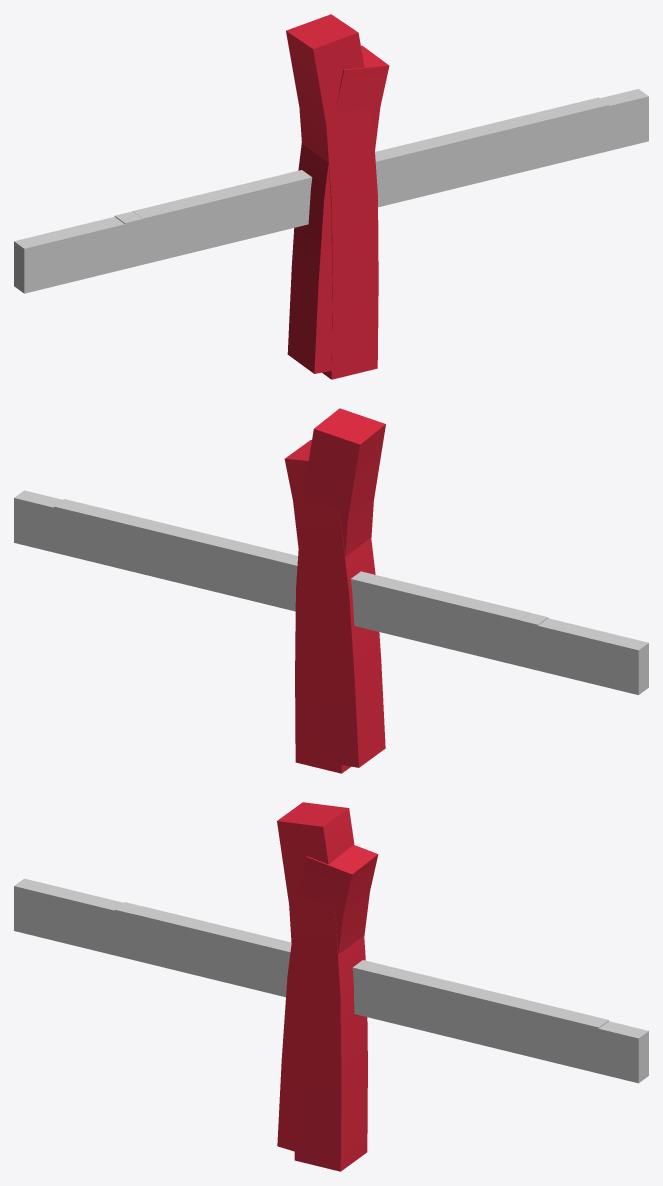
The model's file is Fence_Broken_Parts.fbx.
3 views of the same model, one above another, from view 1: azimuth 30°, elevation 25°; view 2: azimuth 150°, elevation 25°; view 3: azimuth 330°, elevation 25° (orthographic).
Parts seen in each view (by area): view 1: Fence01.001, Plane.002, Plane.001, Fence01.002, Plane.004, Plane, Plane.003; view 2: Fence01.002, Plane.002, Fence01.001, Plane.001, Plane.003, Plane, Plane.004; view 3: Fence01.001, Plane.002, Plane.001, Plane, Fence01.002, Plane.004, Plane.003.
Part boxes in pixels (x1=…): Fence01.001: x1=286, y1=14, x2=378, y2=379; Plane.002: x1=14, y1=89, x2=648, y2=293; Plane.001: x1=144, y1=113, x2=575, y2=250; Fence01.002: x1=287, y1=45, x2=389, y2=373; Plane.004: x1=102, y1=97, x2=608, y2=248; Plane: x1=114, y1=166, x2=460, y2=267; Plane.003: x1=133, y1=160, x2=534, y2=262; Fence01.002: x1=284, y1=440, x2=385, y2=767; Plane.002: x1=14, y1=490, x2=648, y2=694; Fence01.001: x1=295, y1=408, x2=385, y2=773; Plane.001: x1=87, y1=515, x2=475, y2=650; Plane.003: x1=114, y1=552, x2=529, y2=664; Plane: x1=99, y1=517, x2=548, y2=669; Plane.004: x1=54, y1=499, x2=538, y2=649; Fence01.001: x1=277, y1=802, x2=367, y2=1171; Plane.002: x1=14, y1=878, x2=648, y2=1083; Plane.001: x1=143, y1=944, x2=565, y2=1064; Plane: x1=114, y1=902, x2=540, y2=1014; Fence01.002: x1=277, y1=844, x2=378, y2=1151; Plane.004: x1=94, y1=908, x2=608, y2=1071; Plane.003: x1=132, y1=906, x2=541, y2=1046.
Size of the model in its own units: 280 by 145 by 21.65.
